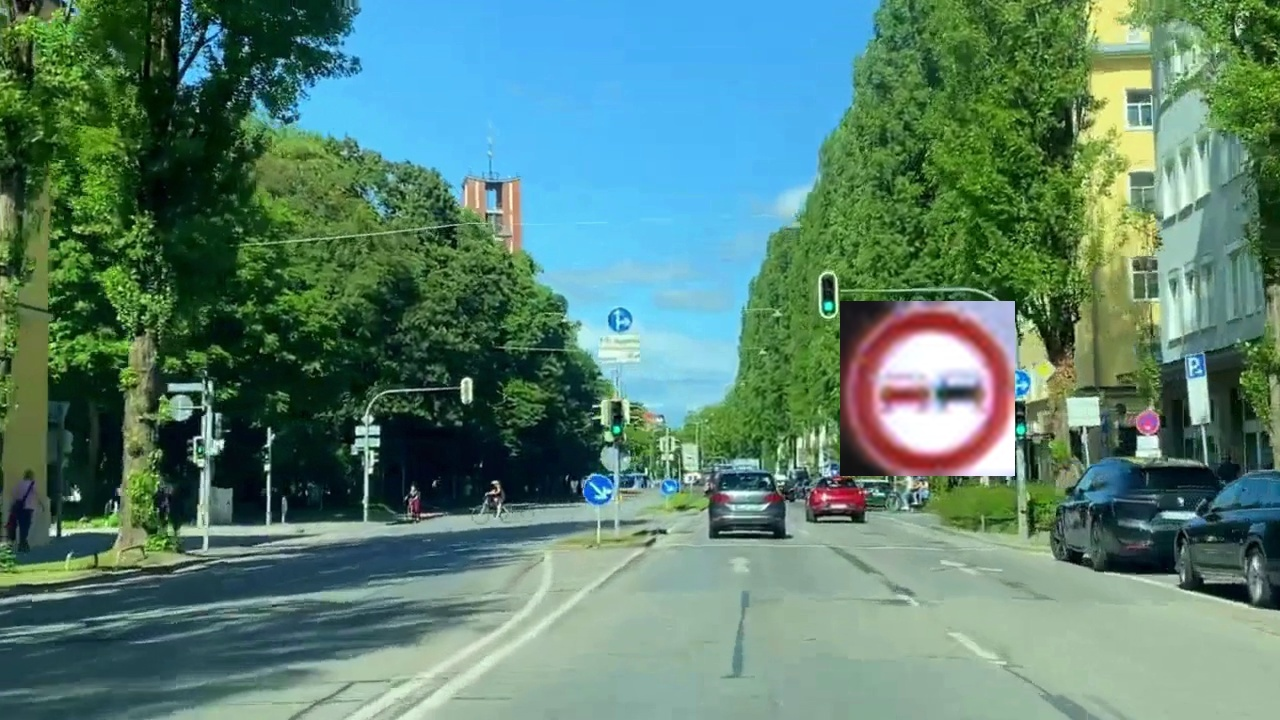No passing: (840, 301, 1015, 476)
